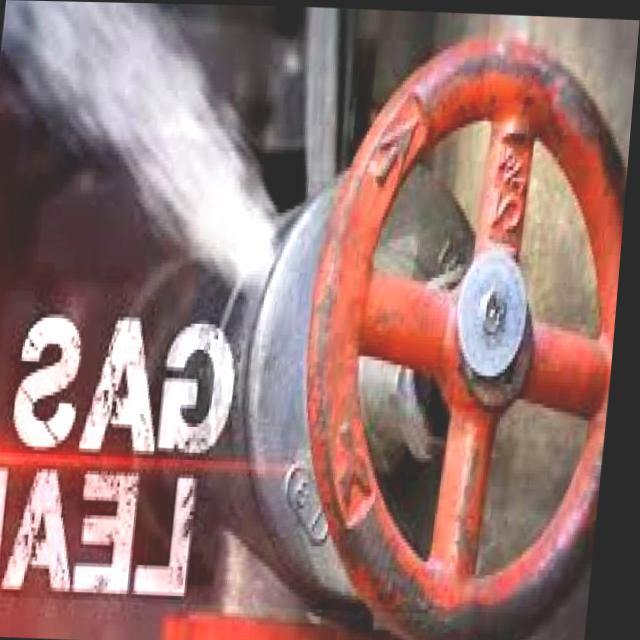corrosion: (171, 149, 299, 322)
